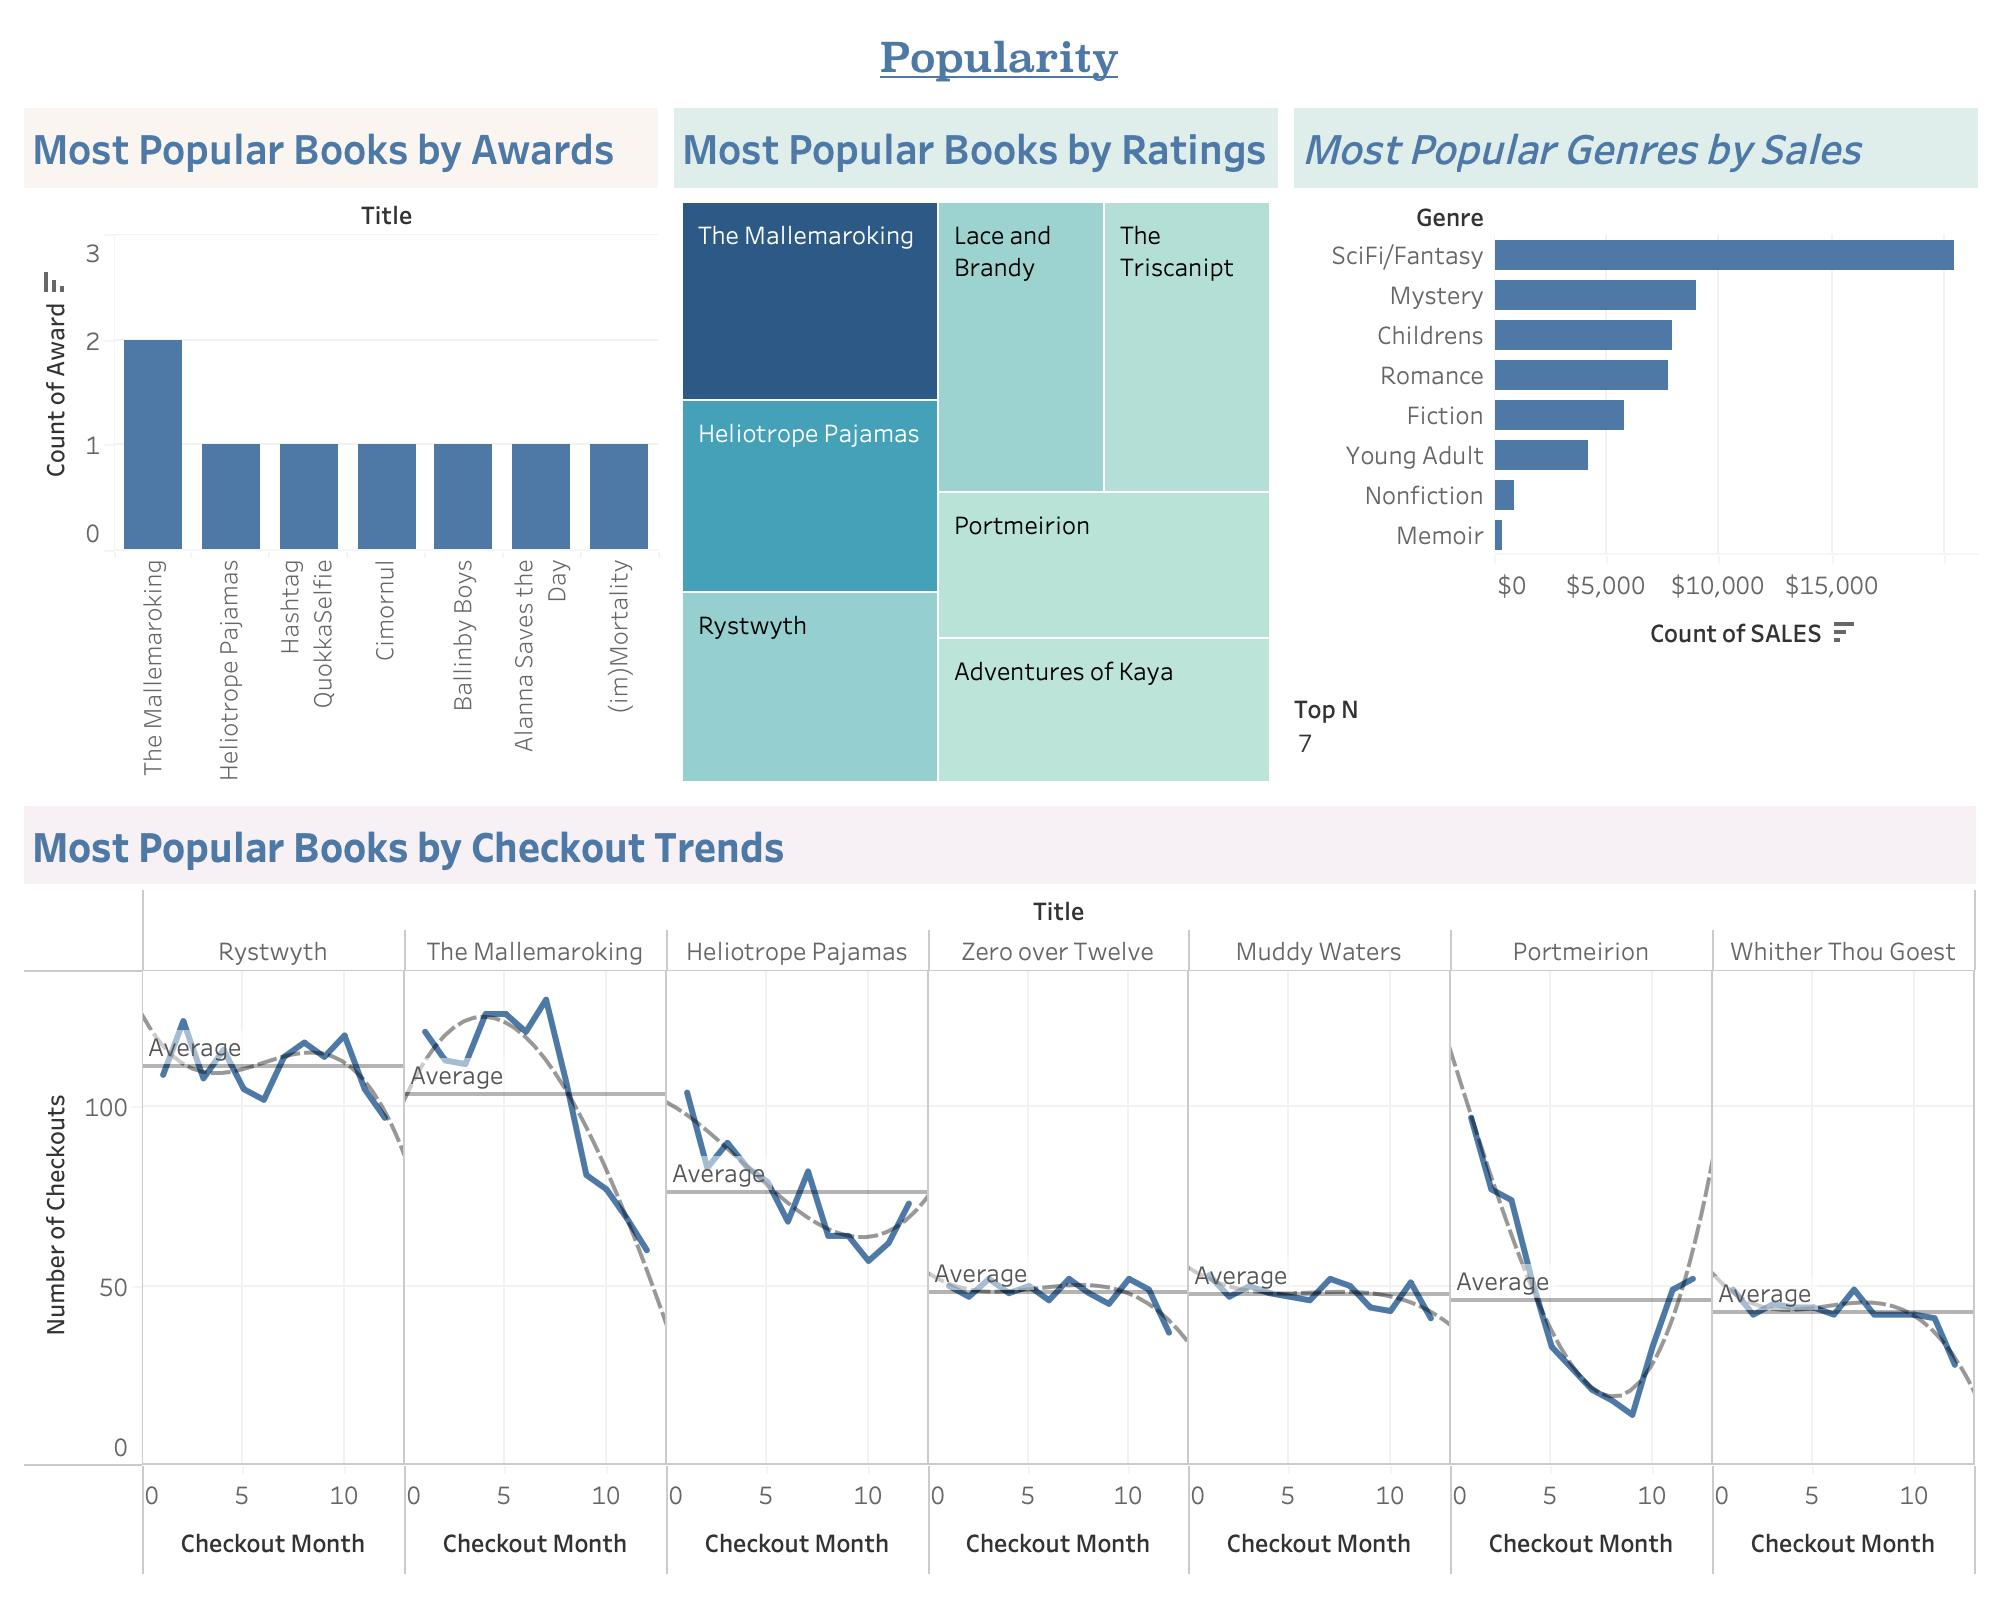

Layout of this report page (visuals, bound fields, positions):
{"tool":"tableau","page":{"name":"Popularity","canvas":[1000,800],"ordinal":2},"visuals":[{"type":"title","box":[8,8,984,42]},{"type":"worksheet","title":"Most Popular Books by Awards","mark":"Automatic","rows":["Award_49DD6D8D33E64071850F405AC6E639A9"],"cols":["Title"],"box":[8,50,325,349.2]},{"type":"worksheet","title":"Most Popular Books by Ratings","mark":"Automatic","box":[333,50,309.5,349.2]},{"type":"worksheet","title":"Most Popular Genres by Sales","mark":"Automatic","rows":["Genre"],"cols":["_B3DC9EB3125C42A58008F2F76DE8932A"],"box":[642.5,50,349.5,291]},{"type":"parameter","param":"[Parameters].[Parameter 1]","box":[642.5,341,349.5,58.2]},{"type":"worksheet","title":"Most Popular Books by Checkout Trends","mark":"Automatic","rows":["Number of Checkouts"],"cols":["Title","CheckoutMonth"],"box":[8,399.2,984,392.8]}]}

Visuals, with their boxes in screenshot pixels (x1, y1, x2, y2), scaled from the page's 1000x800 canvas onto the 2000x1600 screenshot:
title: locate(16, 16, 1984, 100)
"Most Popular Books by Awards" worksheet: locate(16, 100, 666, 798)
"Most Popular Books by Ratings" worksheet: locate(666, 100, 1285, 798)
"Most Popular Genres by Sales" worksheet: locate(1285, 100, 1984, 682)
parameter: locate(1285, 682, 1984, 798)
"Most Popular Books by Checkout Trends" worksheet: locate(16, 798, 1984, 1584)
